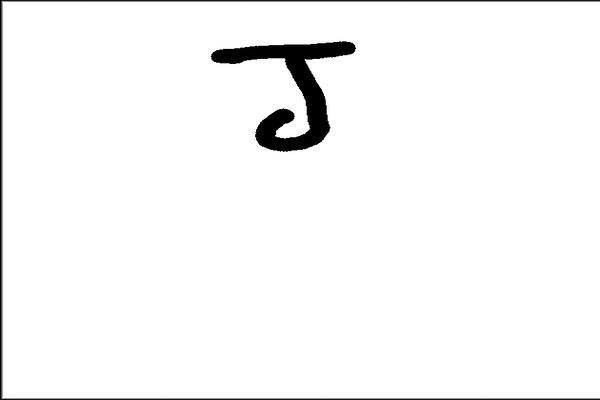J: (204, 36, 363, 154)
